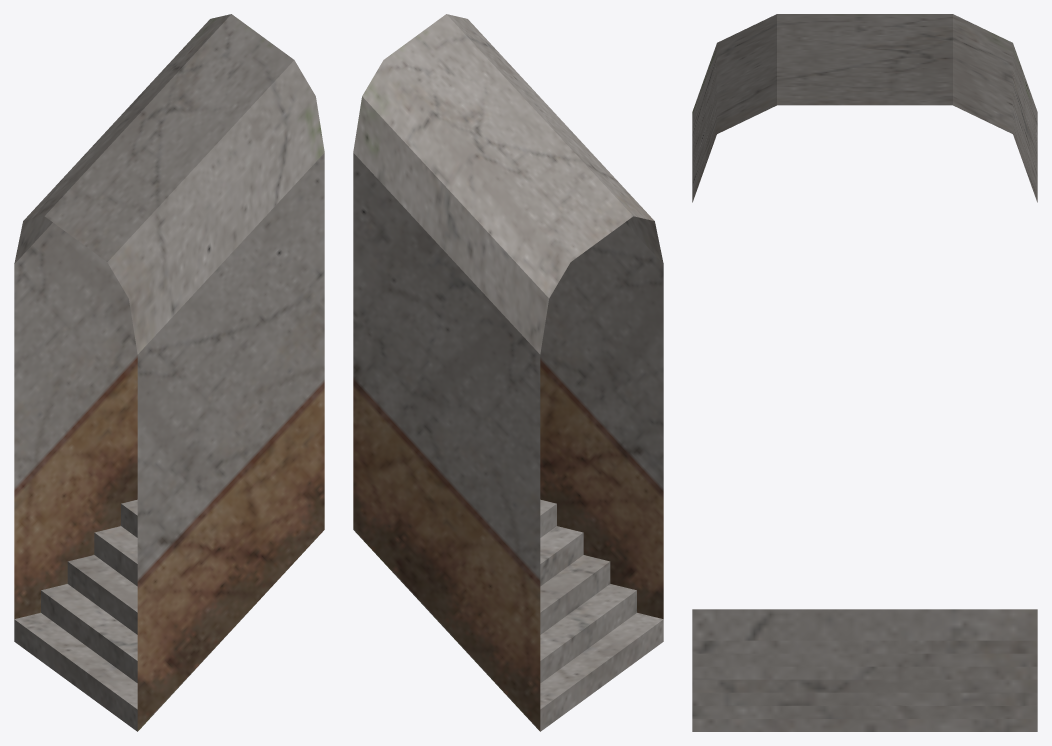
File: MESH_ESCADA01.fbx
3 renders of one model, left to right at view 1: azimuth 30°, elevation 25°; view 2: azimuth 150°, elevation 25°; view 3: azimuth 270°, elevation 25°, orthographic. The views are drawn at different scales.
Visible parts, largest first — view 1: MESH_ESCADA01; view 2: MESH_ESCADA01; view 3: MESH_ESCADA01.
Boxes of the visible parts, x1,y1,x2,y2 form: MESH_ESCADA01: (14, 14, 324, 731); MESH_ESCADA01: (353, 14, 663, 731); MESH_ESCADA01: (692, 14, 1037, 731).
Size of the model in its own units: 1.75 by 5.4 by 2.
